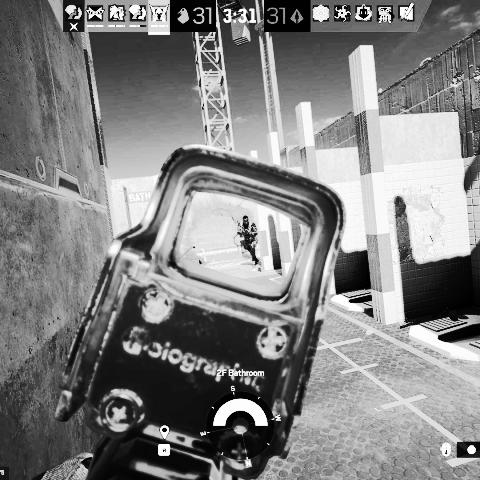Character: (235, 214, 261, 269)
Head: (242, 216, 250, 225)
